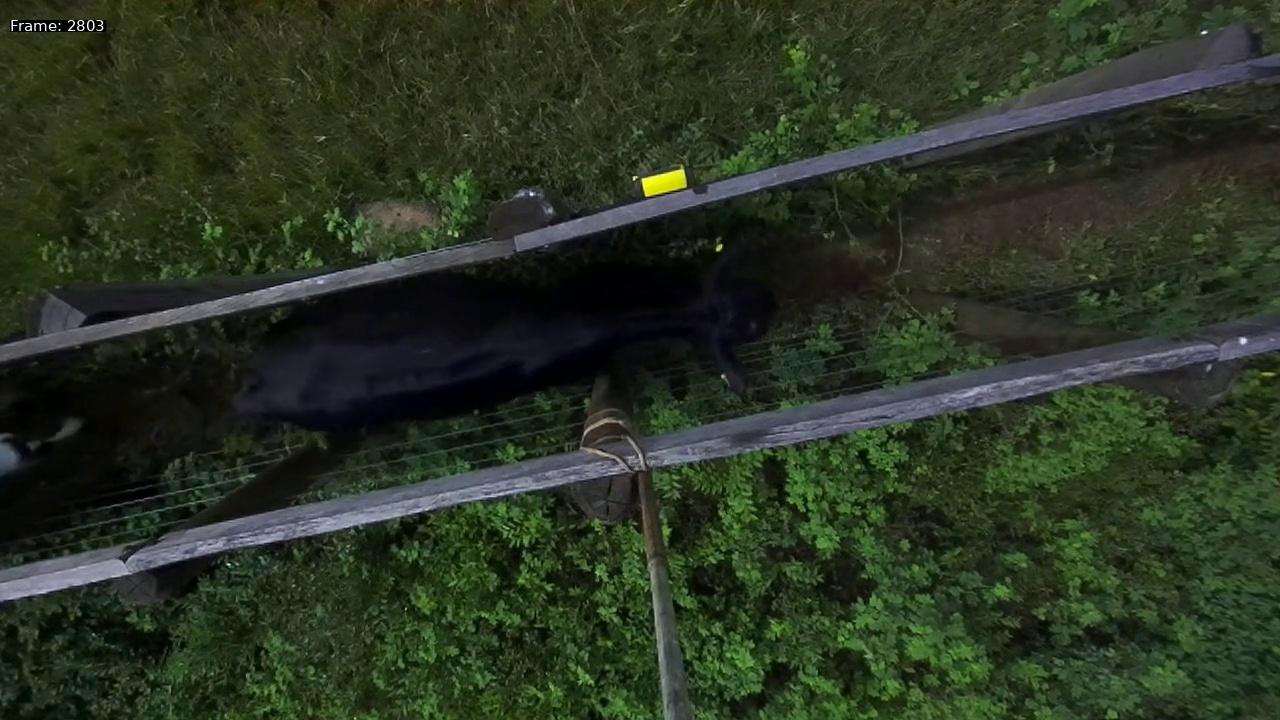cattle: (214, 202, 799, 452)
